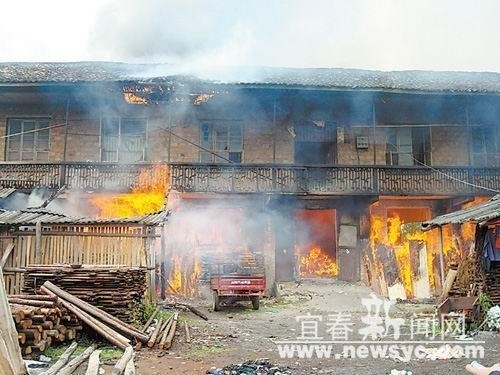fire: (365, 203, 477, 297), (87, 163, 170, 220), (164, 254, 202, 294), (297, 243, 339, 278), (123, 85, 154, 103)
